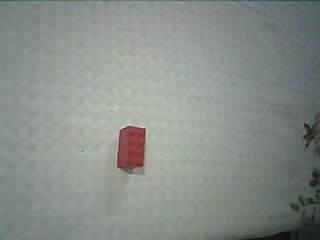lego: (117, 125, 147, 169)
